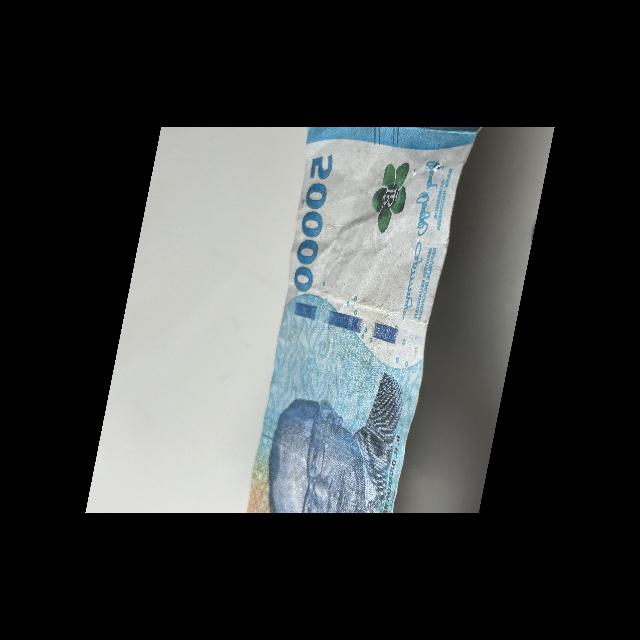Palsu-50k: (218, 88, 484, 546)
Tinta-Palsu-50k: (364, 155, 412, 240)
